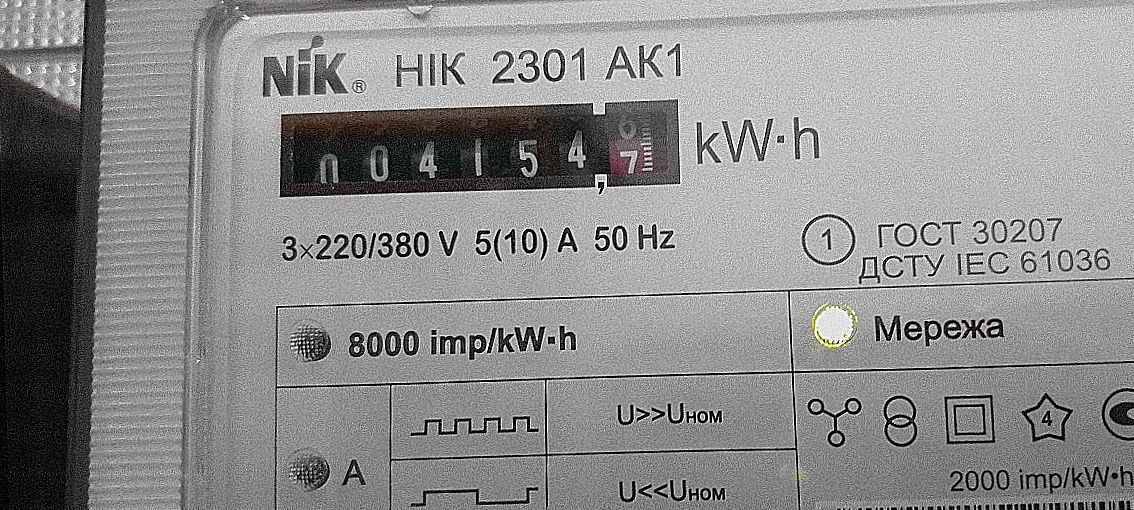0: (366, 141, 390, 183), (316, 149, 339, 183)
1: (470, 136, 484, 177)
4: (415, 138, 439, 180), (565, 126, 586, 170)
5: (515, 134, 540, 179)
6: (615, 110, 638, 140)
7: (617, 146, 638, 175)
screen: (261, 85, 697, 211)
